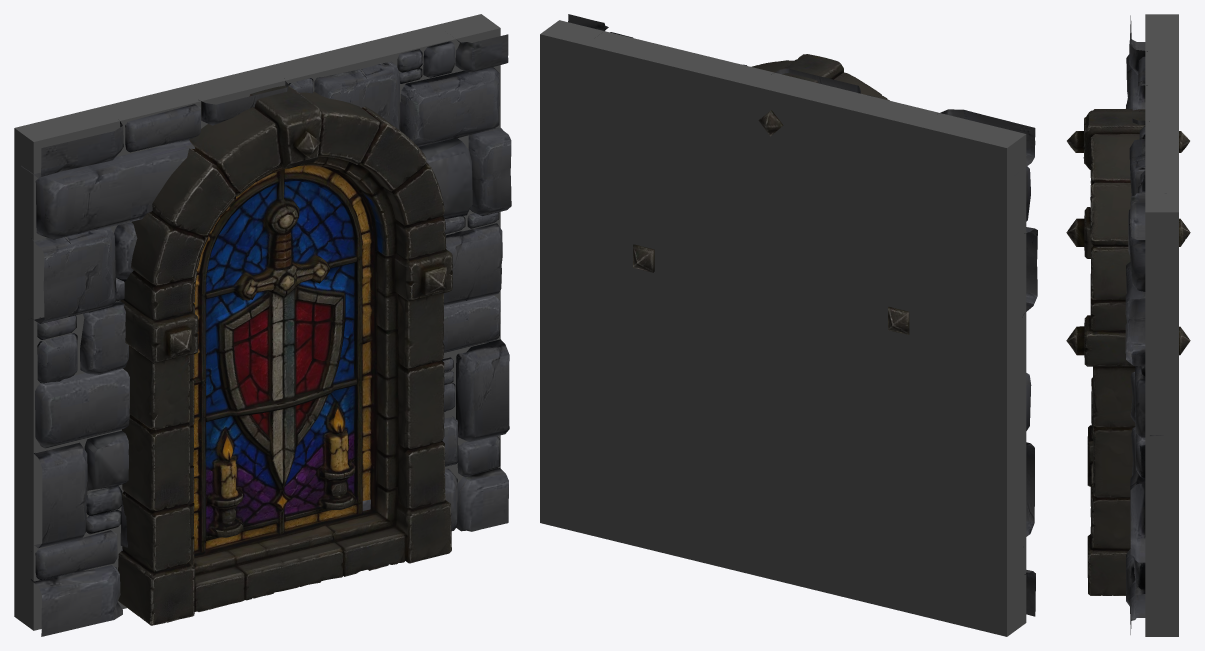
File: Wall_StainedGlass.fbx
3 views of the same model, side by side, from view 1: azimuth 30°, elevation 25°; view 2: azimuth 150°, elevation 25°; view 3: azimuth 270°, elevation 25° (orthographic). The views are drawn at different scales.
Parts seen in each view (by area): view 1: Wall_StainedGlass; view 2: Wall_StainedGlass; view 3: Wall_StainedGlass.
Boxes of the visible parts, box(x1,y1,x2,y2) form: Wall_StainedGlass: box(14, 14, 511, 636); Wall_StainedGlass: box(540, 14, 1037, 636); Wall_StainedGlass: box(1066, 14, 1190, 636).
Bounding box in the file's own units: 302 × 300 × 79.7.
